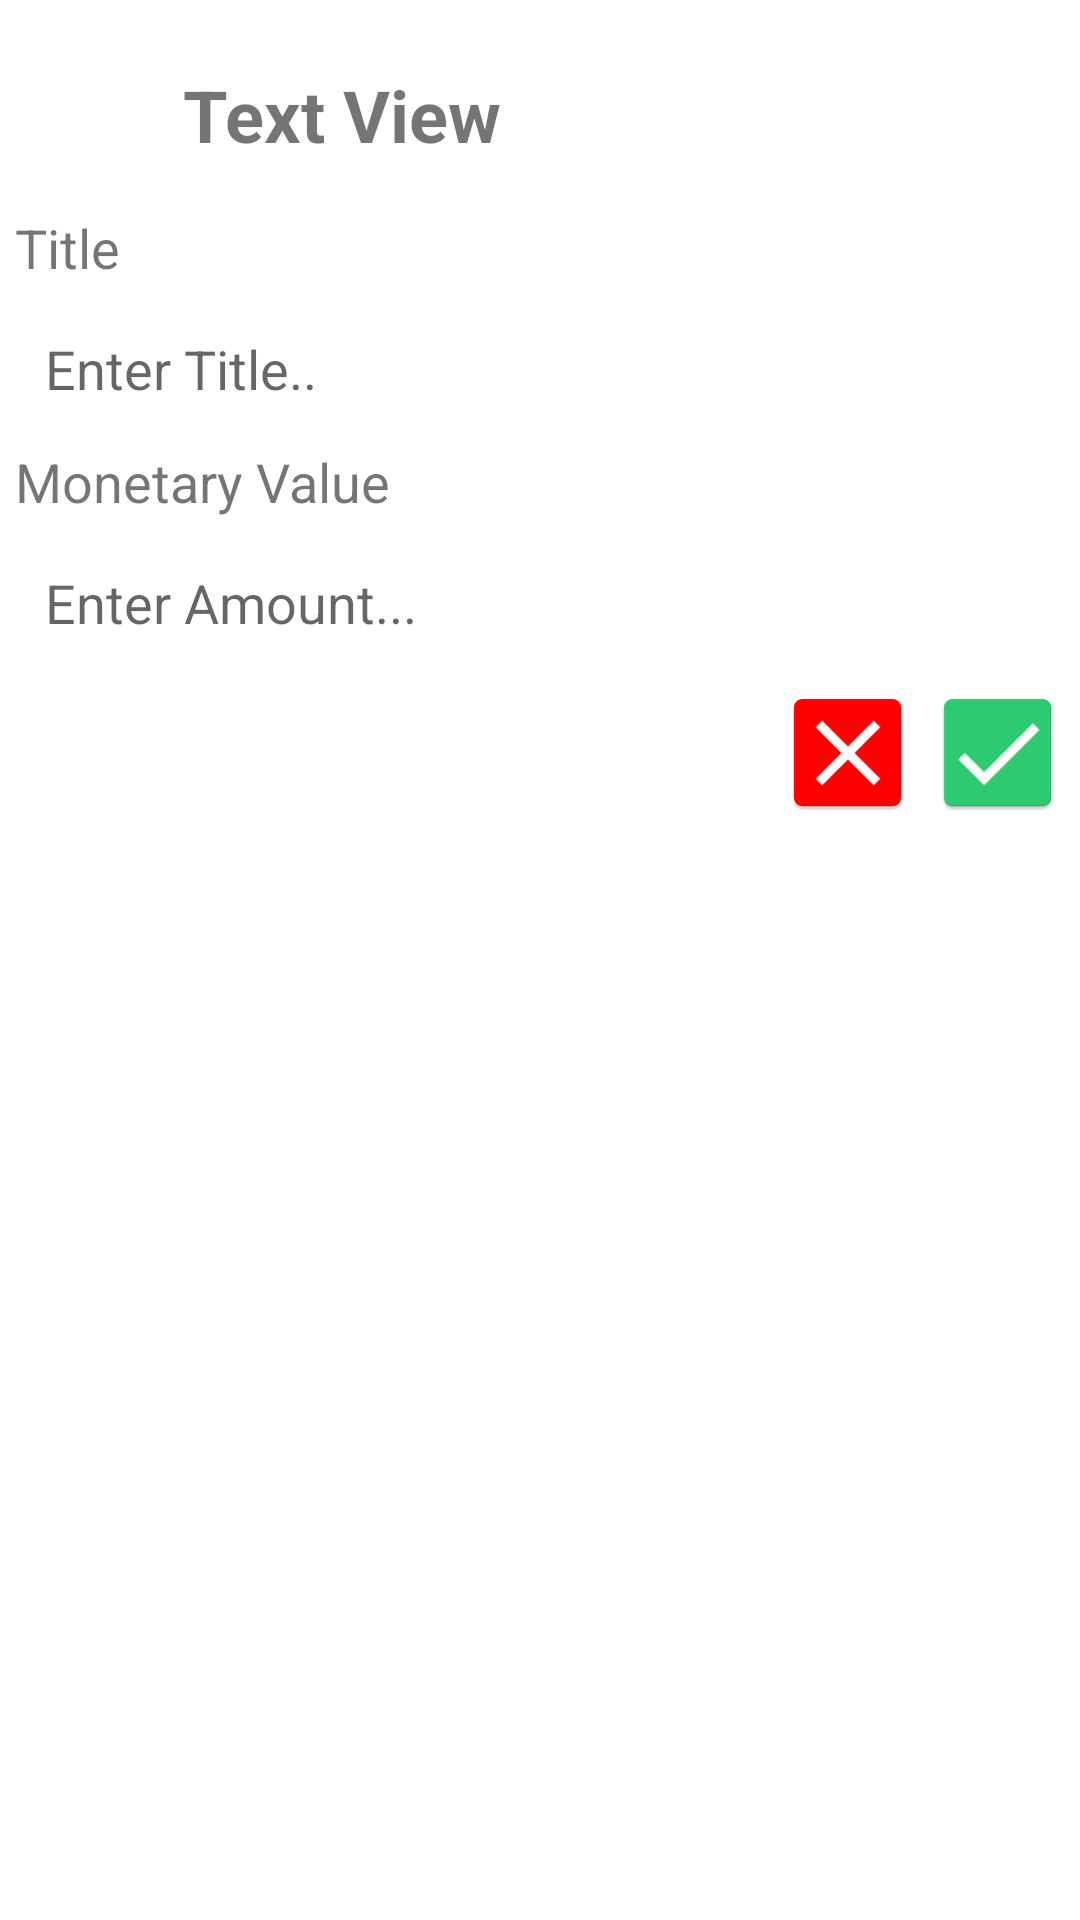

Point at icon controls on the screen. Image size 1080w x 1920h, points as (x=x, y=y).
close: (x=847, y=753)
done: (x=997, y=754)
